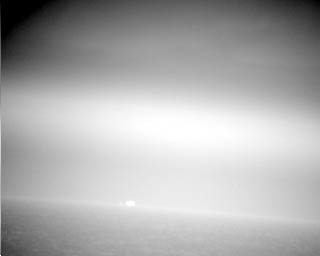Target: (128, 201, 135, 205)
